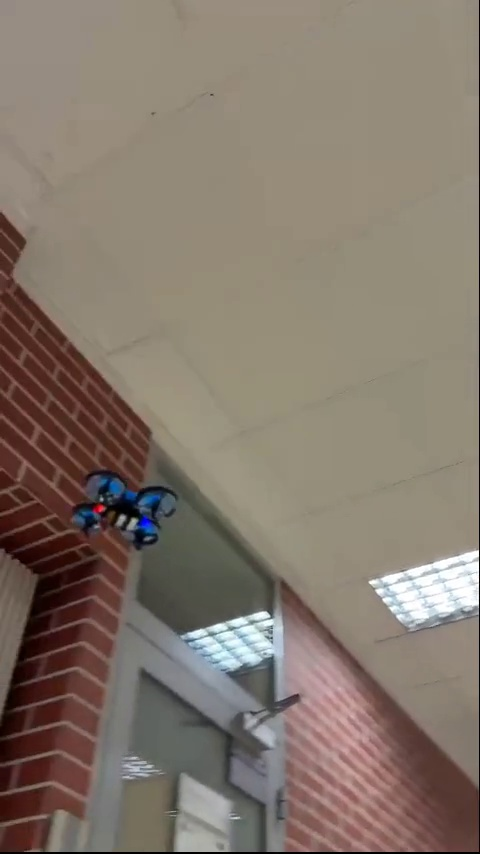drone: (75, 472, 176, 545)
